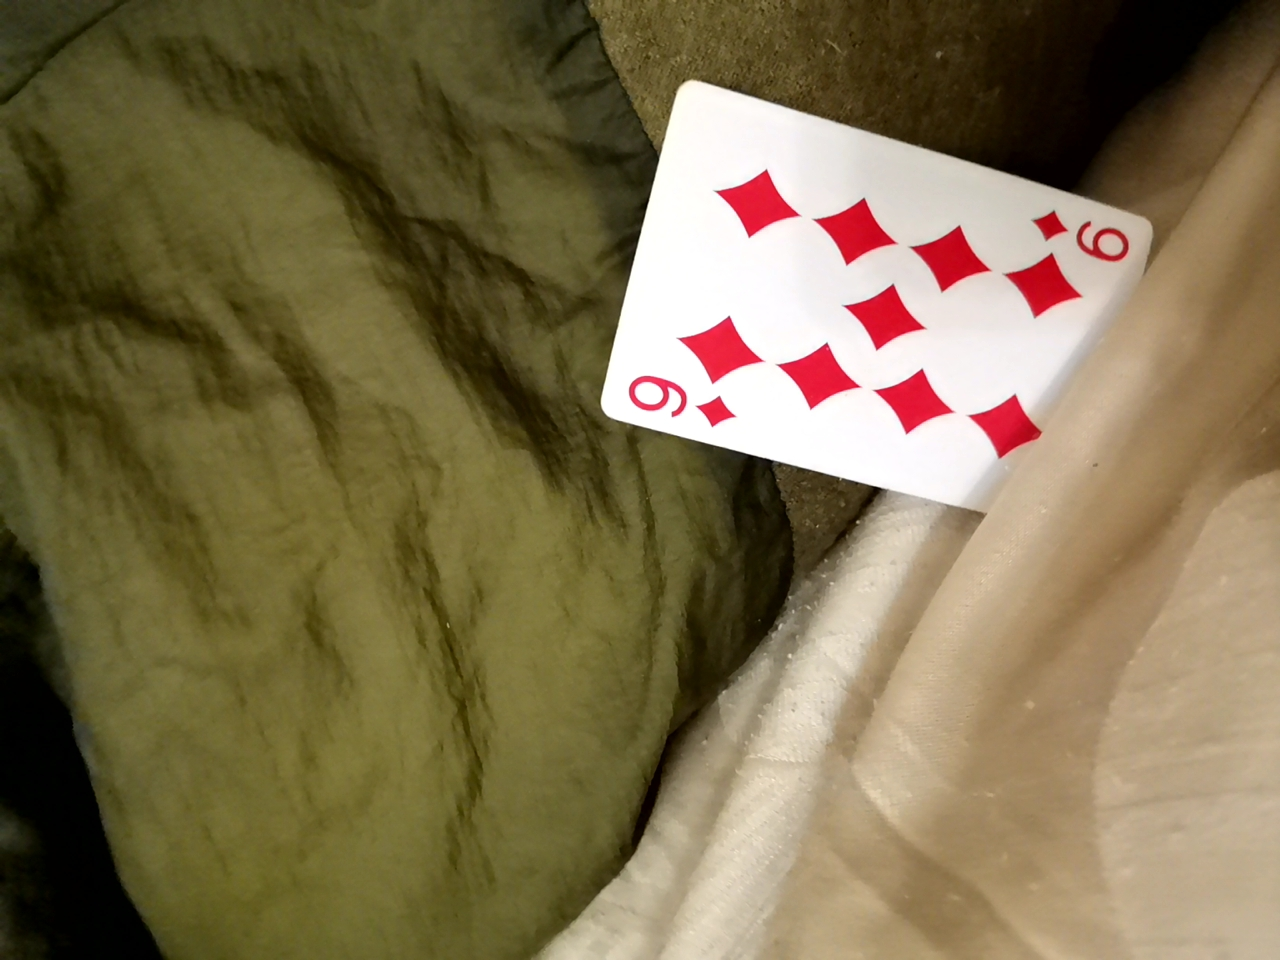fk 9: (570, 106, 1149, 541)
